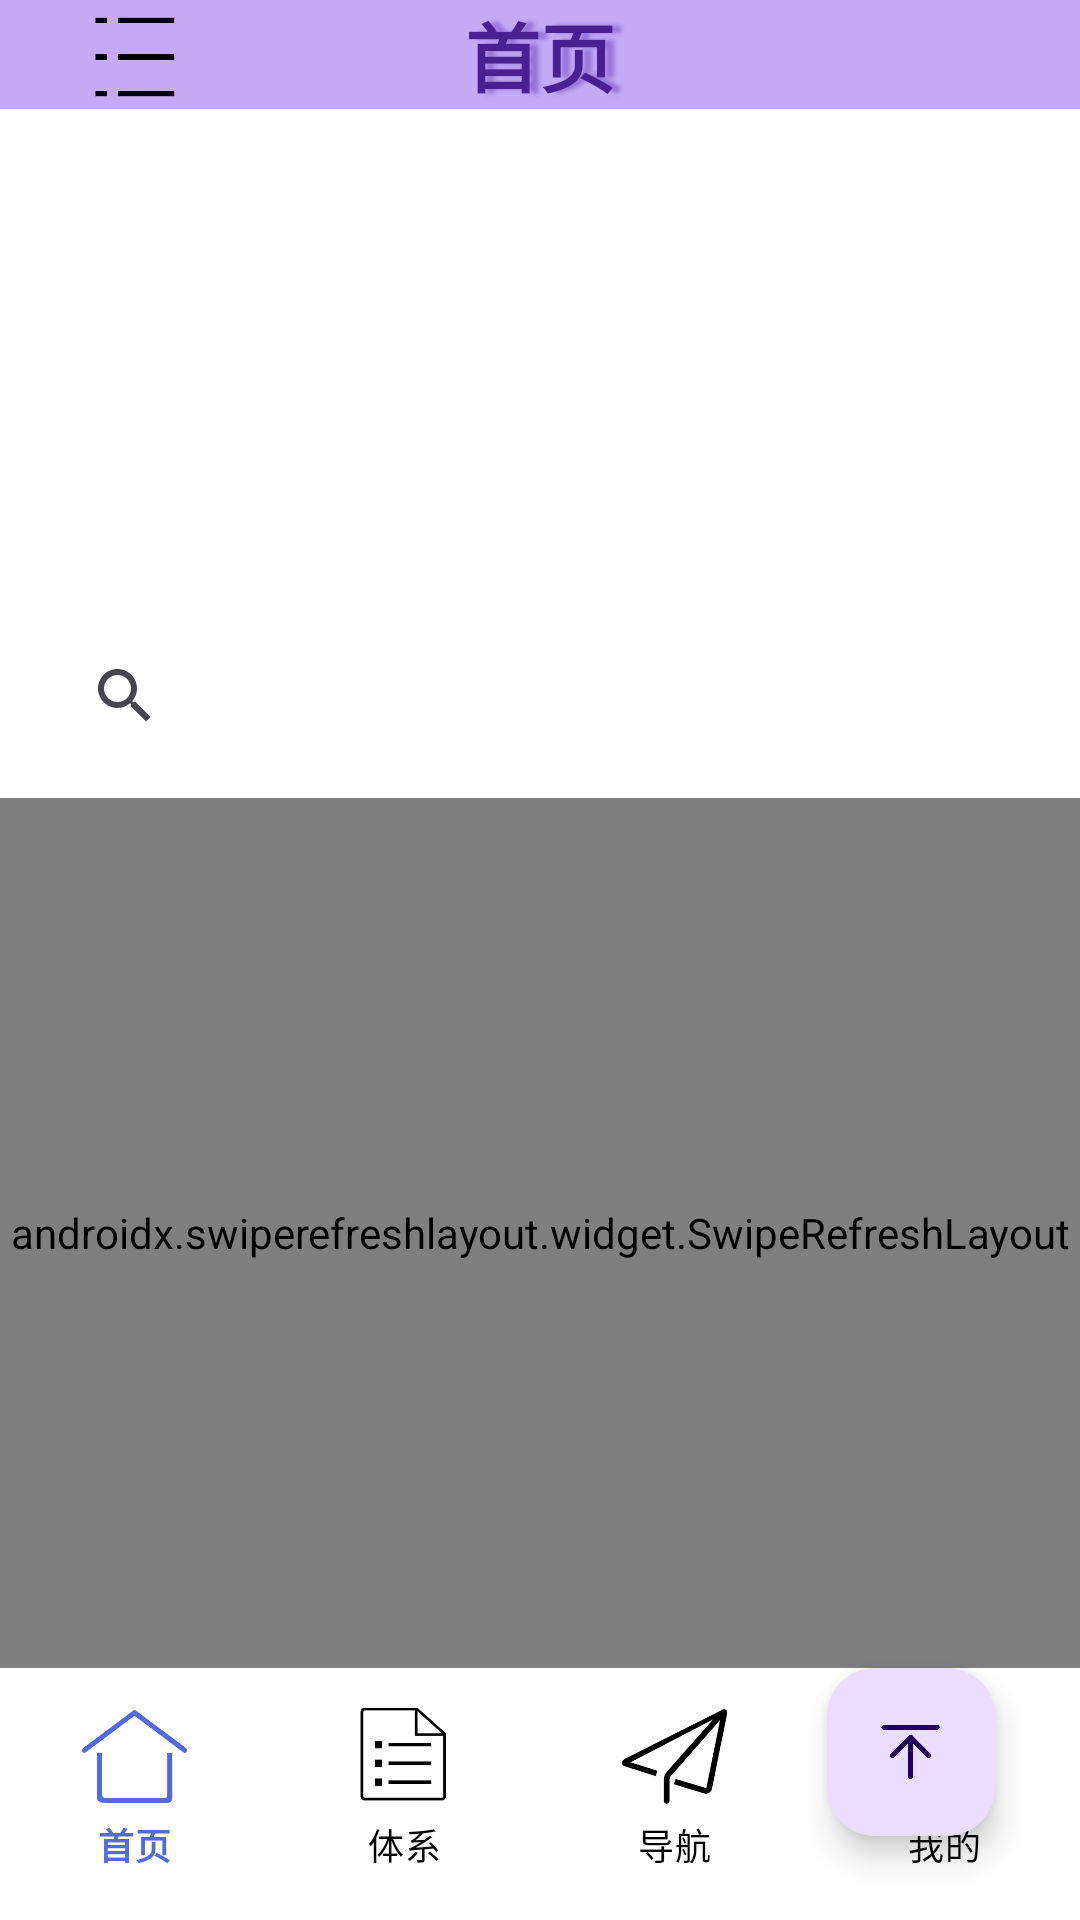

Where to tap for icons on this 1080*1920 app screen, as (x=x, y=y):
返回顶部: (x=911, y=1752)
